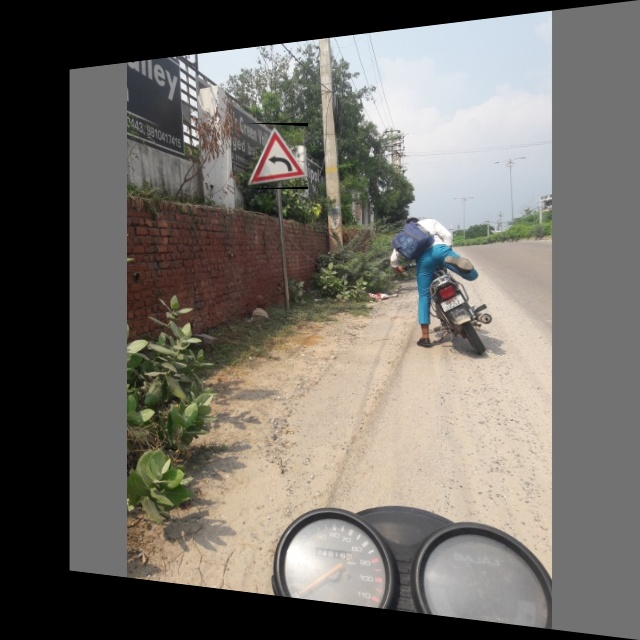Left_Hand_Curve: (245, 123, 308, 189)
